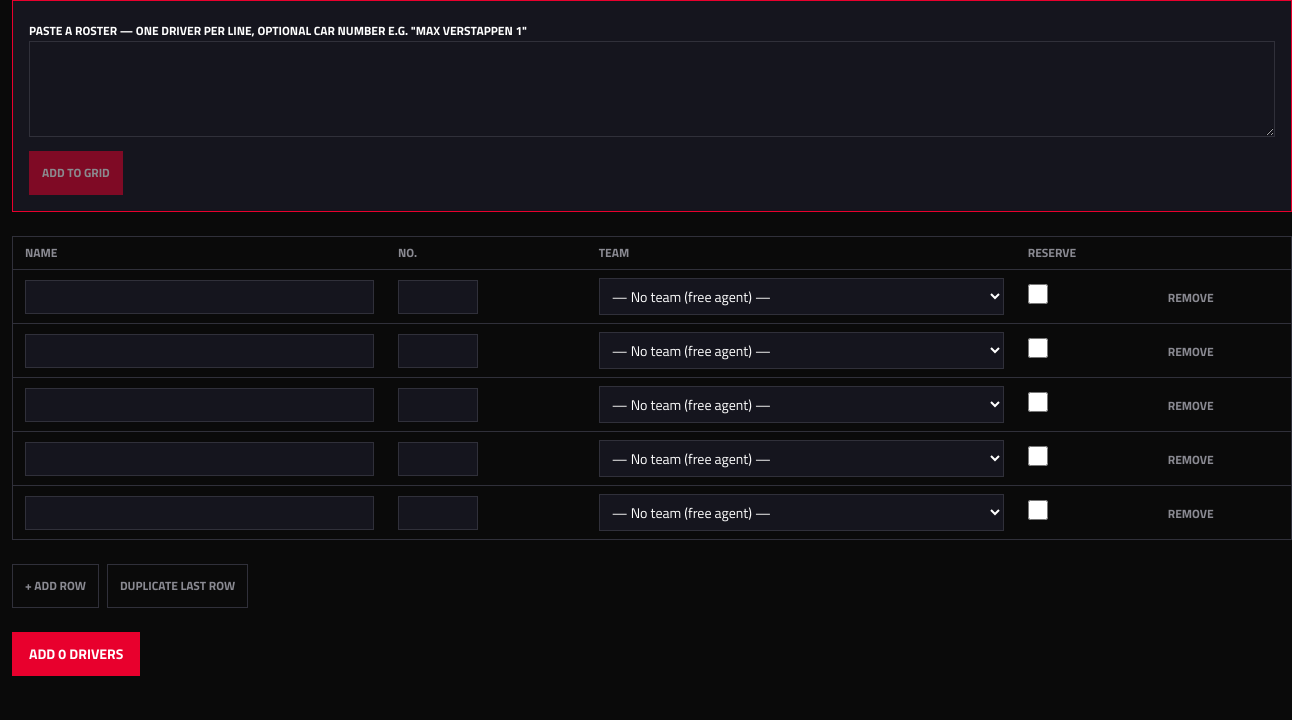
AddDriversGrid › shows an error when the request fails
expect the button "Add 0 drivers" is enabled: met, box x1=12 y1=632 x2=140 y2=676
Type "Max Verstappen" into the field named "Driver name row 1" at point(199, 296), box x1=25 y1=280 x2=374 y2=314
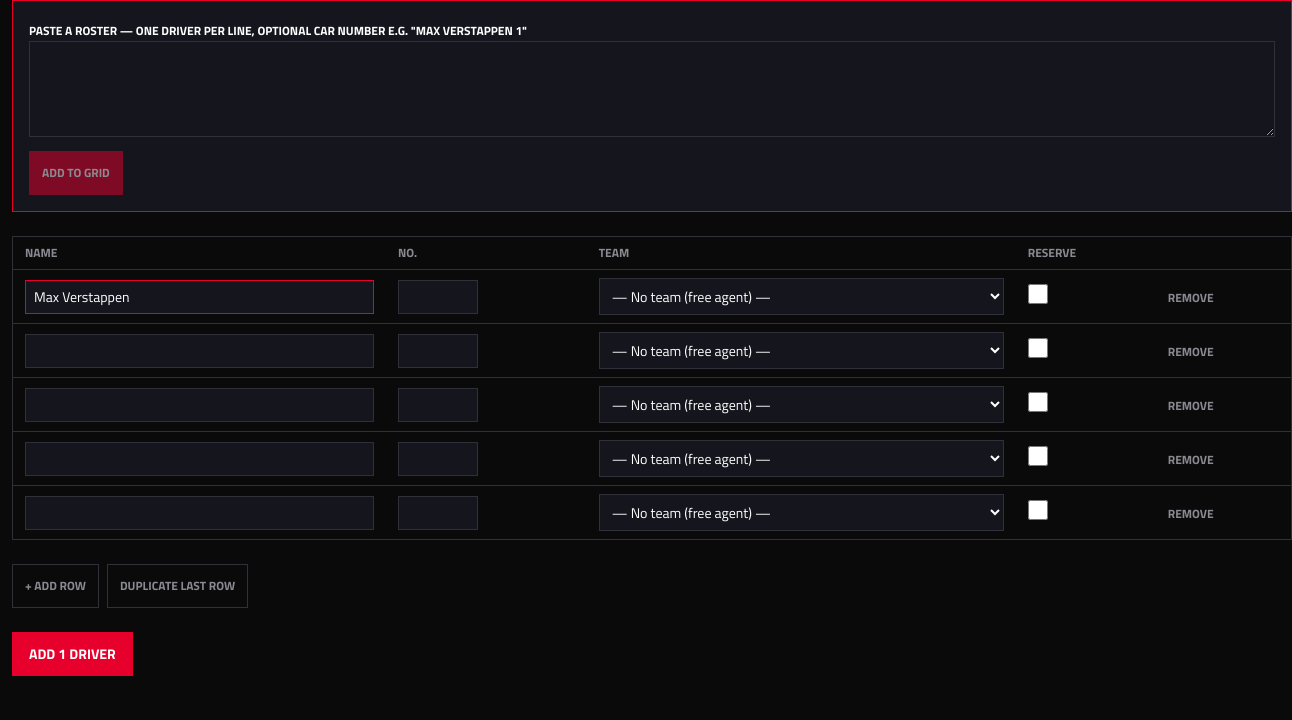
Click the button "Add 1 driver" at point(72, 654), box x1=12 y1=632 x2=133 y2=676
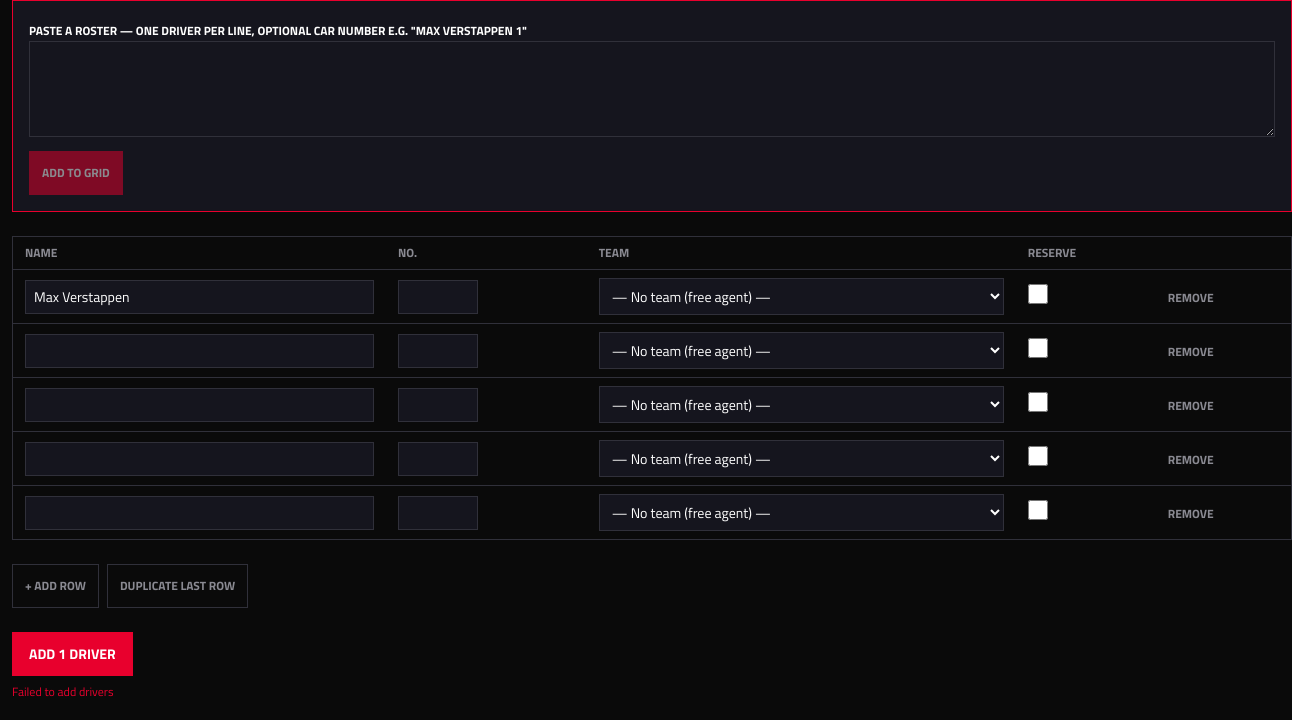
expect the text "Failed to add drivers" is shown: met, box x1=12 y1=682 x2=114 y2=701
